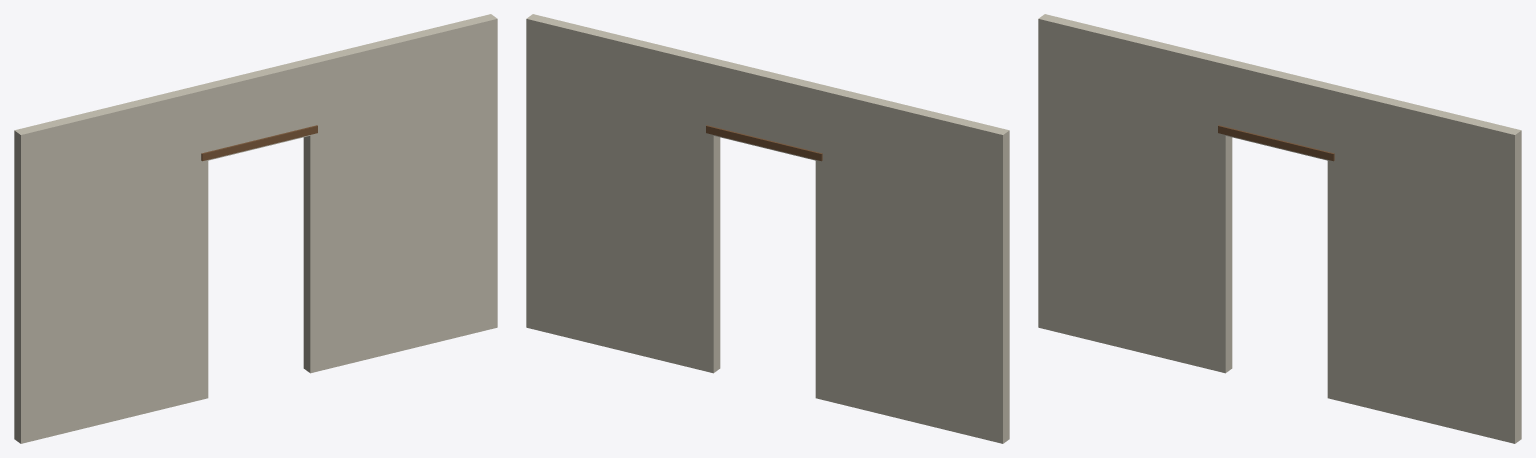
File: SM_P0_Wall_C_Door.obj
3 views of the same model, side by side, from view 1: azimuth 30°, elevation 25°; view 2: azimuth 150°, elevation 25°; view 3: azimuth 330°, elevation 25° (orthographic).
Visible parts, largest first — view 1: wall_pier_l, wall_pier_r, wall_head_band, door_casing_head; view 2: wall_pier_l, wall_pier_r, wall_head_band, door_casing_head; view 3: wall_pier_r, wall_pier_l, wall_head_band, door_casing_head.
Part boxes in pixels (x1,y1,x2,y2): wall_pier_l: (14, 161, 208, 443); wall_pier_r: (303, 90, 497, 373); wall_head_band: (14, 14, 497, 206); door_casing_head: (201, 125, 317, 161); wall_pier_l: (815, 161, 1009, 443); wall_pier_r: (526, 90, 720, 373); wall_head_band: (526, 14, 1009, 206); door_casing_head: (706, 125, 822, 161); wall_pier_r: (1327, 161, 1521, 443); wall_pier_l: (1038, 90, 1232, 373); wall_head_band: (1038, 14, 1521, 206); door_casing_head: (1218, 125, 1334, 161).
Size of the model in its own units: 4.2 by 2.6 by 0.13.
